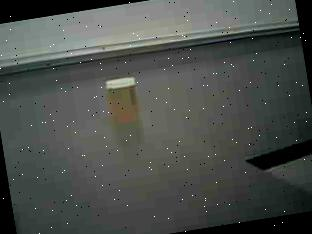Bottle B: (99, 69, 149, 139)
